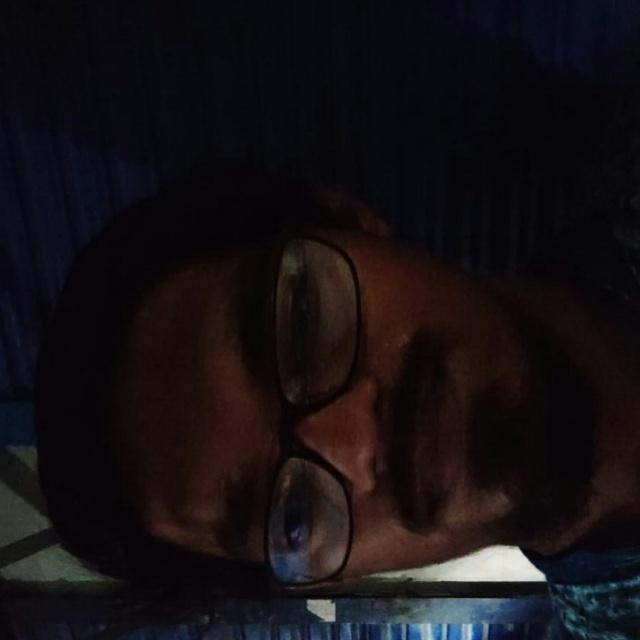natural: (129, 73, 585, 640)
